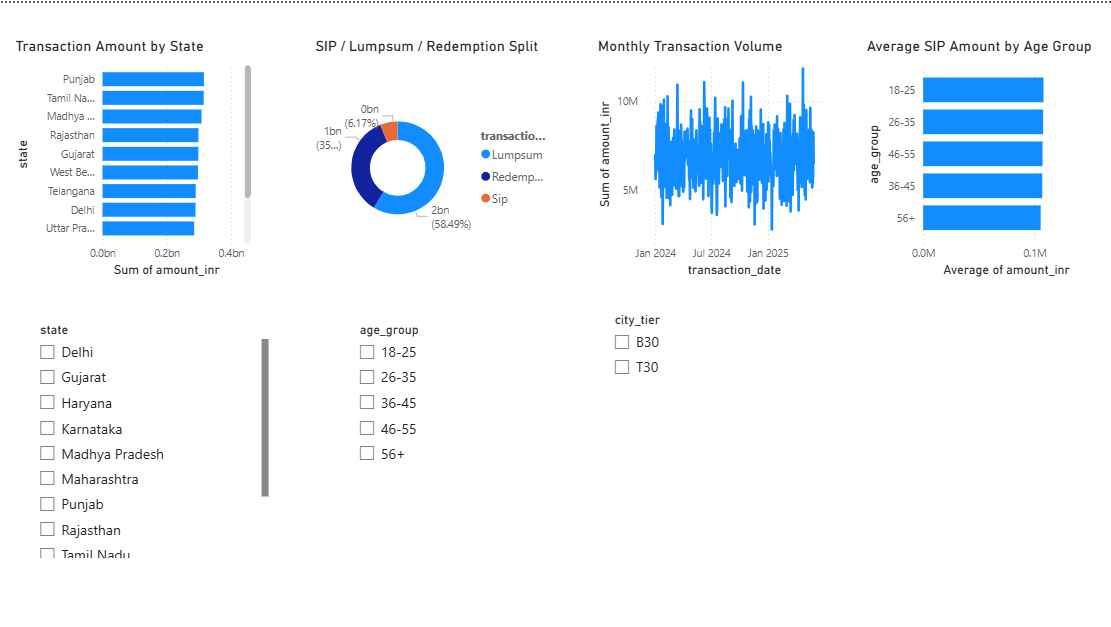

What the dashboard file says about the page in this screenshot:
{"tool":"powerbi","page":{"name":"Investor Analytics","canvas":[1280,720],"ordinal":2},"visuals":[{"type":"clusteredBarChart","title":"Transaction Amount by State","fields":{"Category":["08_investor_transactions_clean.state"],"Y":["Sum(08_investor_transactions_clean.amount_inr)"]},"box":[16.4,39.2,279.6,279.6],"z":0},{"type":"donutChart","title":"SIP / Lumpsum / Redemption Split","fields":{"Category":["08_investor_transactions_clean.transaction_type"],"Y":["Sum(08_investor_transactions_clean.amount_inr)"]},"box":[360.5,39.2,279.6,280.8],"z":1000},{"type":"clusteredBarChart","title":"Average SIP Amount by Age Group","fields":{"Category":["08_investor_transactions_clean.age_group"],"Y":["Avg(08_investor_transactions_clean.amount_inr)"]},"box":[990.6,39.2,279.6,279.6],"z":2000},{"type":"lineChart","title":"Monthly Transaction Volume","fields":{"Y":["Sum(08_investor_transactions_clean.amount_inr)"],"Category":["08_investor_transactions_clean.transaction_date"]},"box":[683.1,39.2,280.8,279.6],"z":3000},{"type":"slicer","fields":{"Values":["08_investor_transactions_clean.state"]},"box":[36.7,360.5,279.6,279.6],"z":4000},{"type":"slicer","fields":{"Values":["08_investor_transactions_clean.age_group"]},"box":[402.3,360.5,280.8,279.6],"z":5000},{"type":"slicer","fields":{"Values":["08_investor_transactions_clean.city_tier"]},"box":[694.5,349.2,280.8,279.6],"z":6000}]}

Visuals, with their boxes in screenshot pixels (x1, y1, x2, y2), scaled from the page's 1280x720 canvas onto the 1111x627 screenshot:
"Transaction Amount by State" clusteredBarChart: (14, 34, 257, 278)
"SIP / Lumpsum / Redemption Split" donutChart: (313, 34, 556, 279)
"Average SIP Amount by Age Group" clusteredBarChart: (860, 34, 1102, 278)
"Monthly Transaction Volume" lineChart: (593, 34, 837, 278)
slicer - 08_investor_transactions_clean.state: (32, 314, 275, 557)
slicer - 08_investor_transactions_clean.age_group: (349, 314, 593, 557)
slicer - 08_investor_transactions_clean.city_tier: (603, 304, 847, 548)
